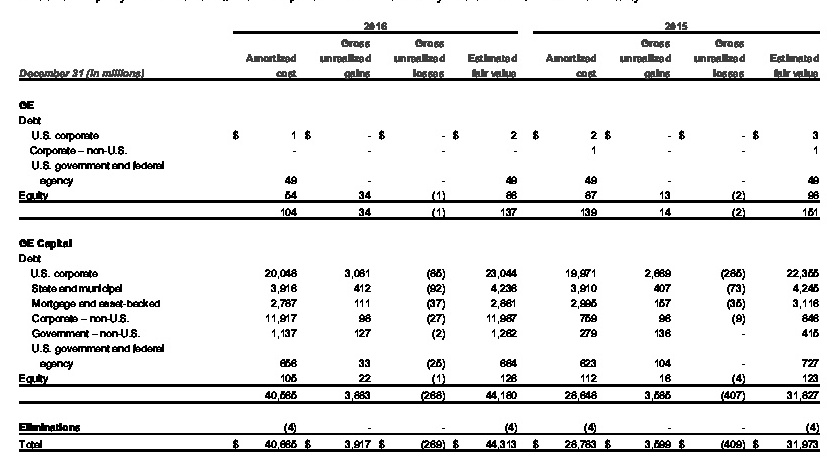table: (0, 0, 840, 470)
